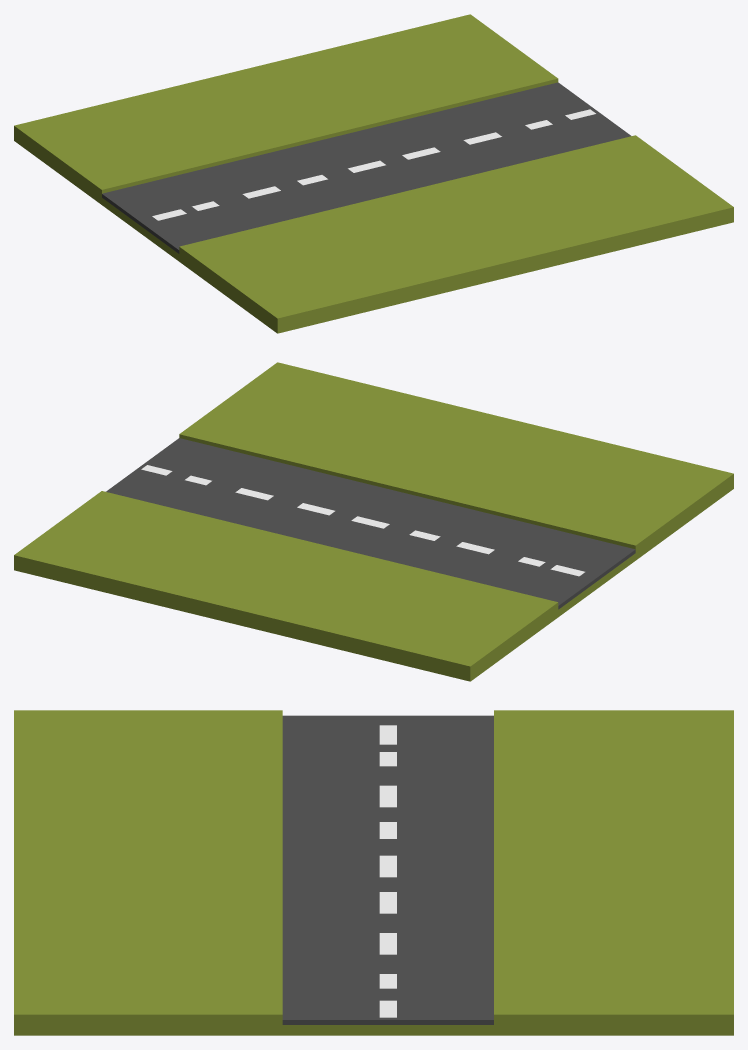
Rendered from map v1.0-31.obj.
3 views of the same model, one above another, from view 1: azimuth 30°, elevation 25°; view 2: azimuth 150°, elevation 25°; view 3: azimuth 270°, elevation 25° (orthographic). The views are drawn at different scales.
Bounding box in the file's own units: 12.6 × 0.4 × 12.6.
1 material, 1 textured.
